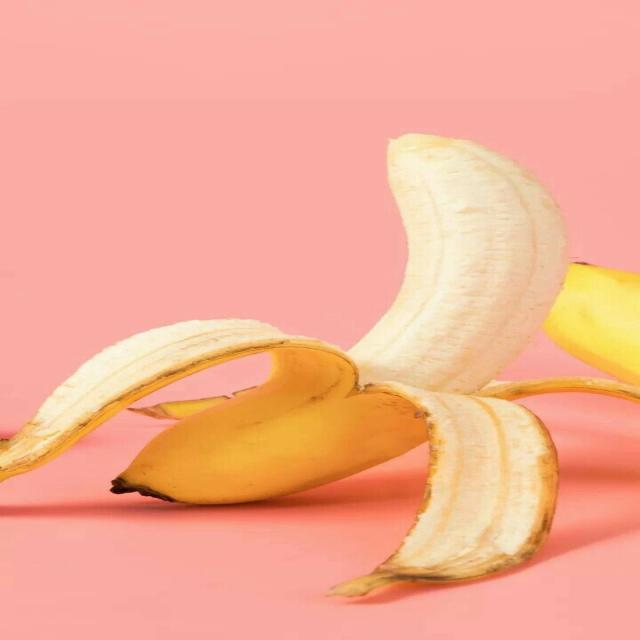banana: (0, 135, 565, 583), (329, 377, 639, 595), (349, 135, 566, 393), (330, 390, 557, 595), (544, 264, 639, 383)
